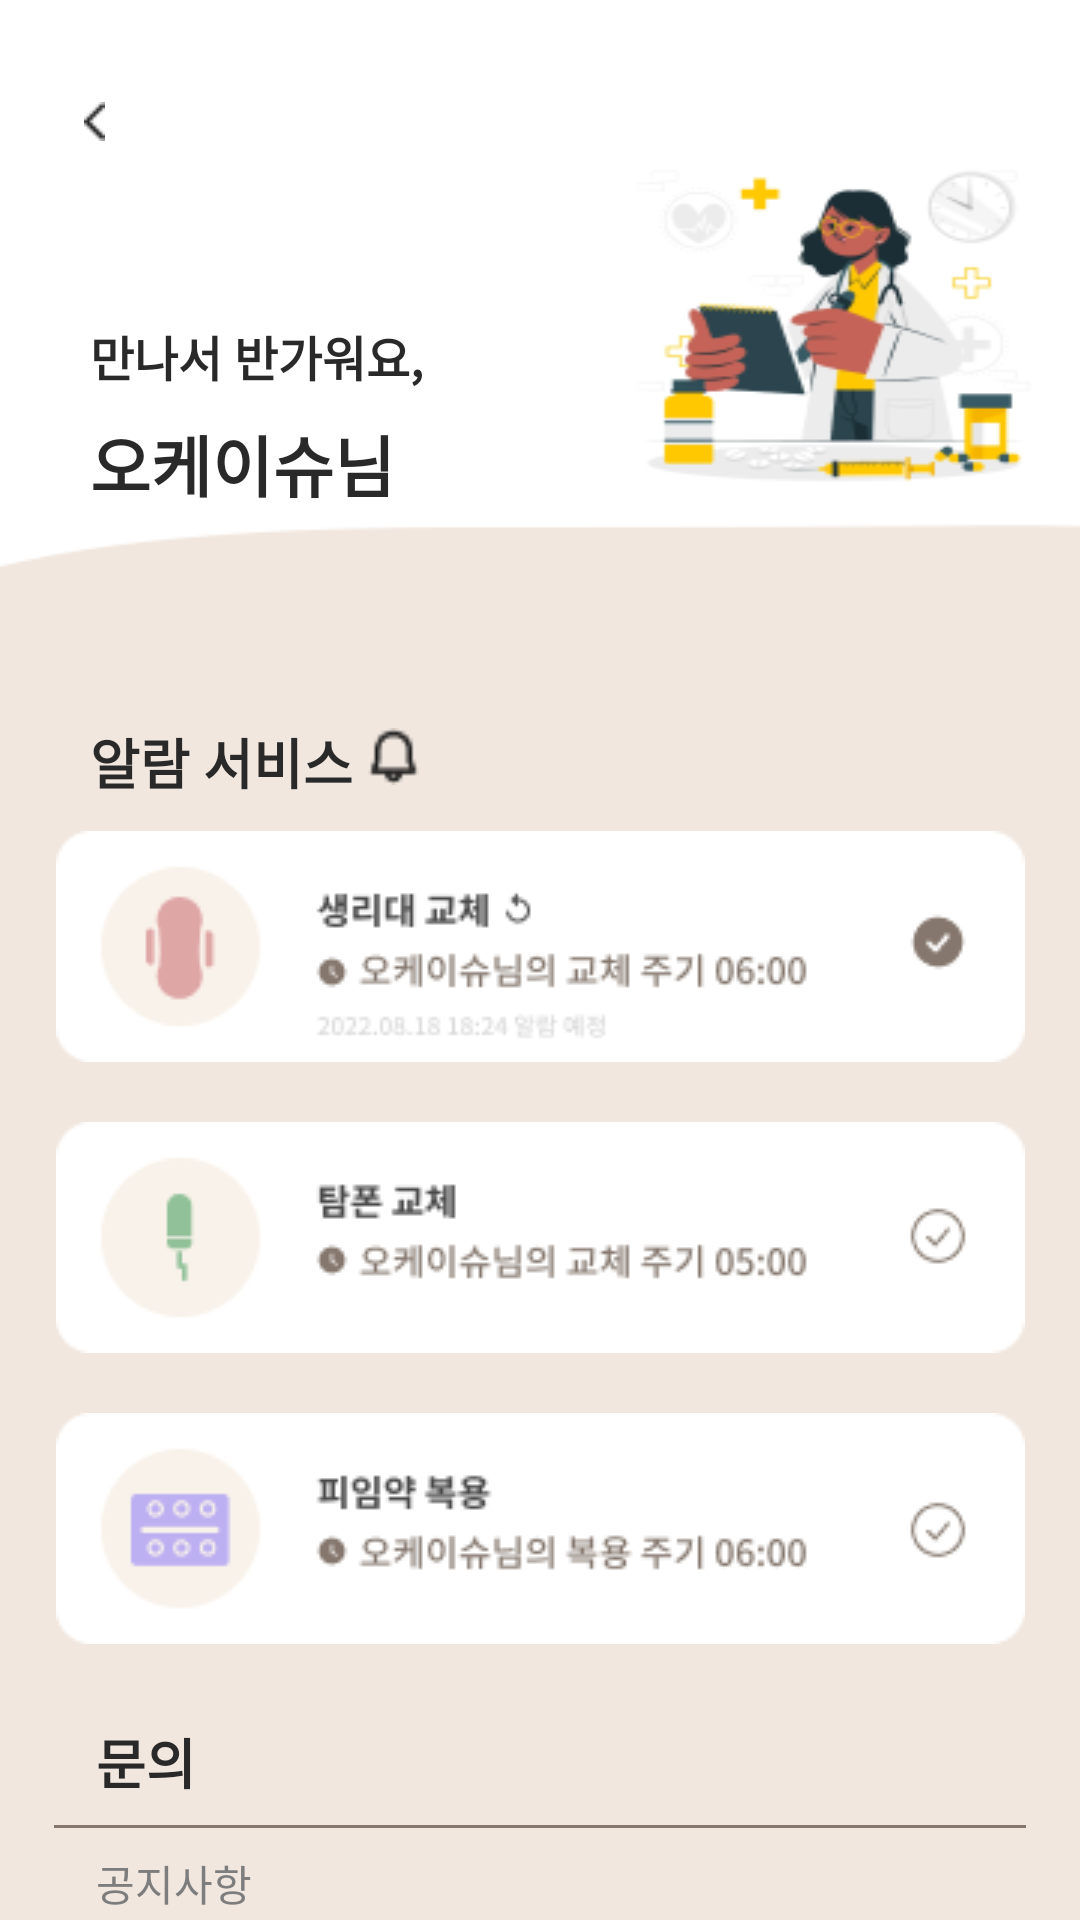

Icon bounding boxes for this 1080x1920 phone screenshot, format BBox(x1, y1, x2, y2):
alarm: BBox(370, 728, 417, 785)
backbutton: BBox(84, 102, 105, 141)
